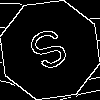S: (25, 25, 77, 82)
